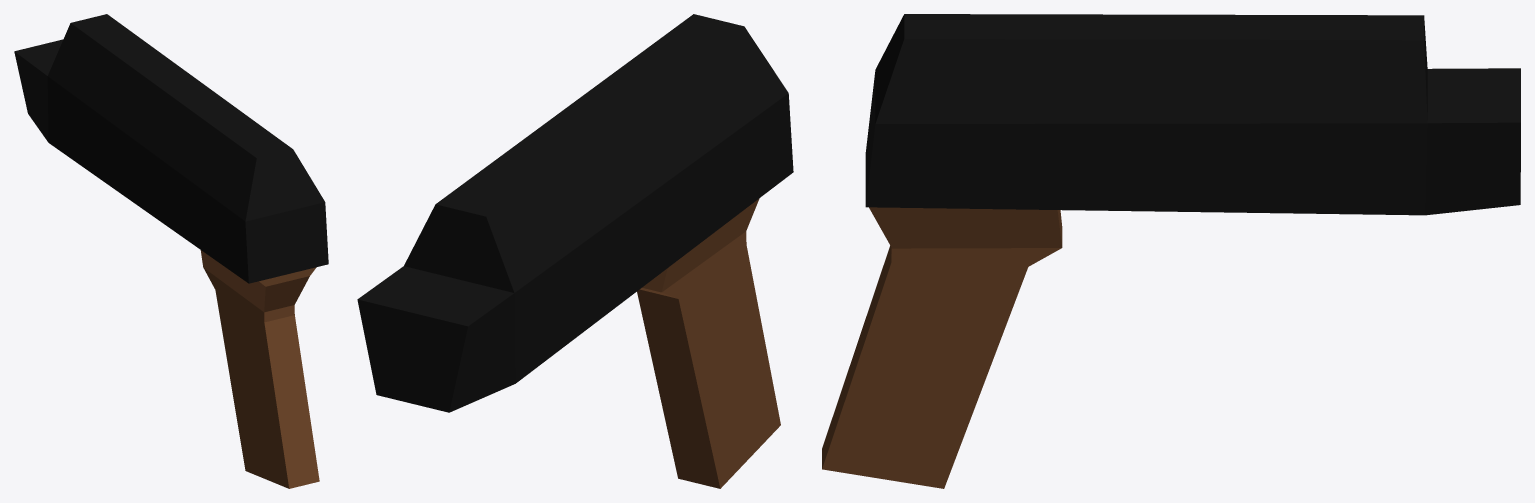
The model's file is pistol_asset.fbx.
The picture shows the model from 3 angles, left to right: view 1: azimuth 30°, elevation 25°; view 2: azimuth 150°, elevation 25°; view 3: azimuth 270°, elevation 25°; orthographic projection. The views are drawn at different scales.
Parts seen in each view (by area): view 1: Cube, Cube.001; view 2: Cube, Cube.001; view 3: Cube, Cube.001.
Boxes of the visible parts, <box> form: Cube: <box>14,14,328,283</box>; Cube.001: <box>200,250,319,488</box>; Cube: <box>357,14,793,412</box>; Cube.001: <box>637,198,780,488</box>; Cube: <box>865,14,1520,215</box>; Cube.001: <box>822,207,1062,488</box>.
Bounding box in the file's own units: 4.48 × 24.34 × 17.38.
